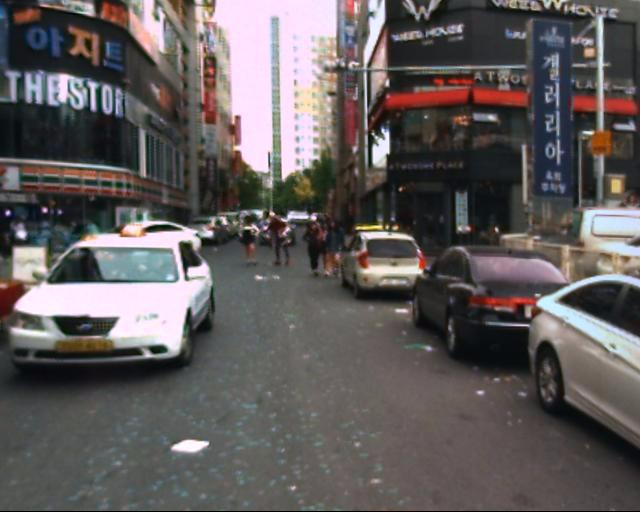person: (268, 204, 298, 274), (321, 213, 349, 282), (242, 208, 269, 279), (304, 213, 329, 279)
